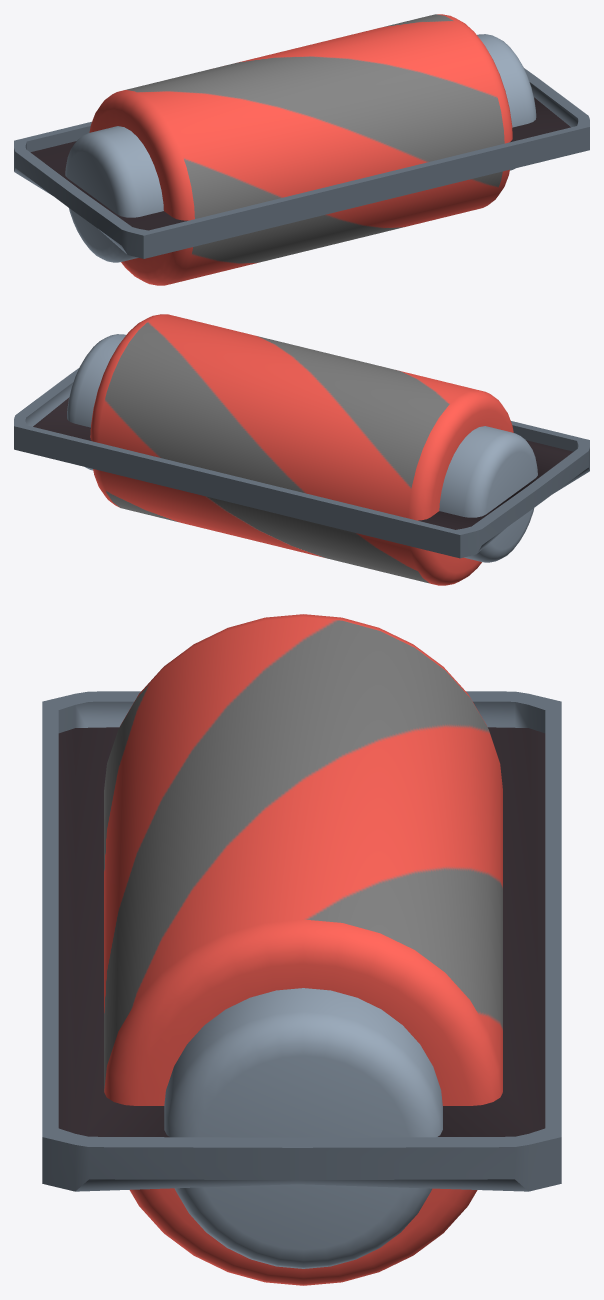
Rendered from HorizontalGrinderFlat.fbx.
3 views of the same model, one above another, from view 1: azimuth 30°, elevation 25°; view 2: azimuth 150°, elevation 25°; view 3: azimuth 270°, elevation 25° (orthographic). The views are drawn at different scales.
Visible parts, largest first — view 1: HorizontalGrinder.001, GrinderBase.001; view 2: HorizontalGrinder.001, GrinderBase.001; view 3: HorizontalGrinder.001, GrinderBase.001.
Part boxes in pixels (<box>): HorizontalGrinder.001: <box>65,14,536,285</box>; GrinderBase.001: <box>14,68,589,258</box>; HorizontalGrinder.001: <box>67,314,537,585</box>; GrinderBase.001: <box>14,368,589,558</box>; HorizontalGrinder.001: <box>104,614,502,1285</box>; GrinderBase.001: <box>42,691,561,1191</box>.
Bounding box in the file's own units: 304 × 113 × 146.
